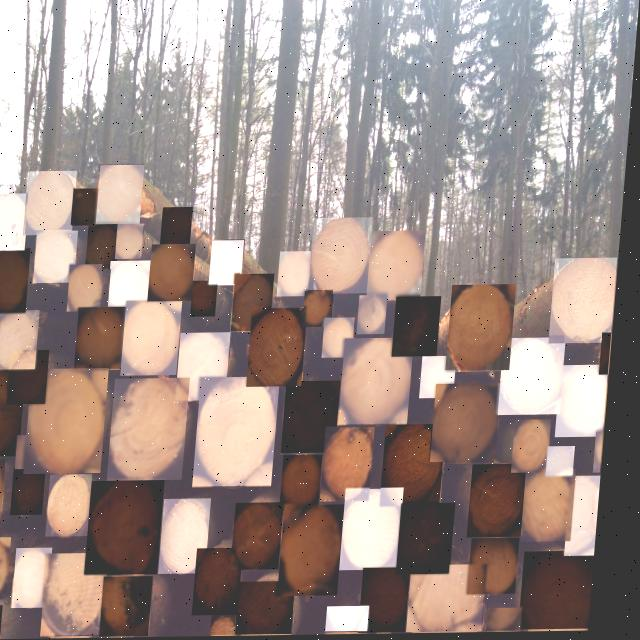wood-log: (204, 378, 283, 486), (36, 369, 112, 474), (118, 379, 194, 481), (97, 482, 169, 574), (347, 340, 418, 424), (531, 553, 603, 630), (291, 506, 351, 597), (454, 287, 518, 371), (557, 260, 621, 344), (54, 554, 116, 636), (420, 566, 495, 633), (440, 386, 505, 463), (391, 427, 451, 506), (507, 340, 569, 416), (352, 491, 409, 571), (255, 310, 311, 388), (316, 220, 374, 295), (129, 301, 185, 376), (478, 466, 533, 539), (290, 382, 346, 453), (408, 505, 462, 575), (373, 233, 428, 300), (531, 471, 582, 543), (170, 500, 218, 574), (565, 367, 615, 438), (331, 429, 380, 501), (185, 334, 234, 401), (243, 504, 291, 571), (372, 569, 419, 634), (205, 549, 251, 615), (30, 171, 78, 234), (113, 577, 163, 637), (82, 308, 130, 369), (250, 582, 304, 635), (399, 298, 445, 358), (0, 368, 30, 456), (480, 540, 527, 596), (56, 475, 99, 536), (101, 166, 146, 224), (0, 311, 44, 370), (154, 245, 199, 302), (574, 478, 606, 558), (238, 276, 278, 332), (24, 548, 60, 608), (290, 456, 330, 510), (114, 261, 154, 314), (0, 249, 33, 313), (16, 350, 55, 404), (39, 232, 80, 283), (520, 422, 557, 474), (0, 194, 31, 251), (74, 265, 106, 312), (283, 253, 317, 297), (427, 358, 462, 400), (21, 468, 52, 514), (91, 225, 122, 270), (215, 242, 247, 285), (329, 319, 360, 359), (0, 538, 19, 598), (165, 208, 196, 244), (363, 297, 391, 335), (309, 292, 337, 328), (338, 608, 380, 632), (76, 189, 103, 225), (196, 282, 222, 316), (122, 224, 146, 259), (497, 610, 532, 633), (554, 449, 582, 477), (24, 436, 43, 469), (222, 616, 248, 637), (605, 336, 616, 377), (0, 606, 13, 635), (603, 435, 610, 474)
